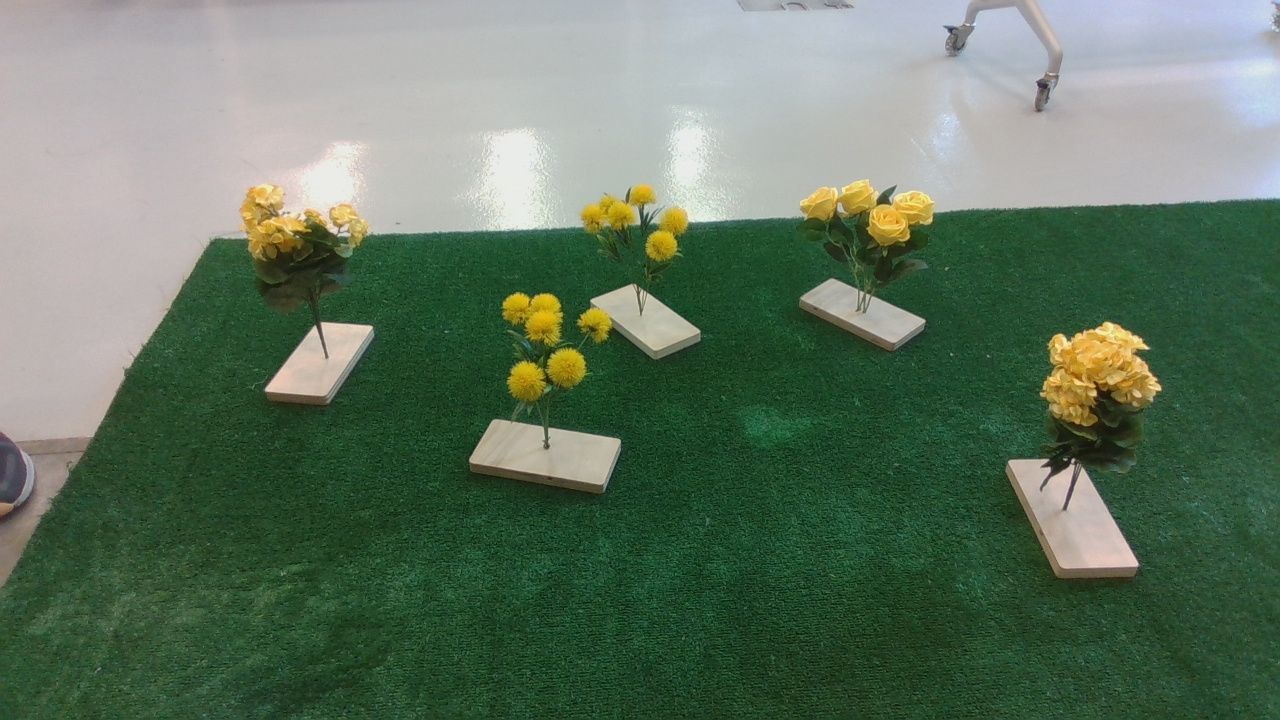dandelion: (483, 289, 619, 409), (576, 187, 704, 271)
geranium: (1037, 320, 1170, 488), (228, 181, 387, 319)
rose: (805, 174, 951, 284)
